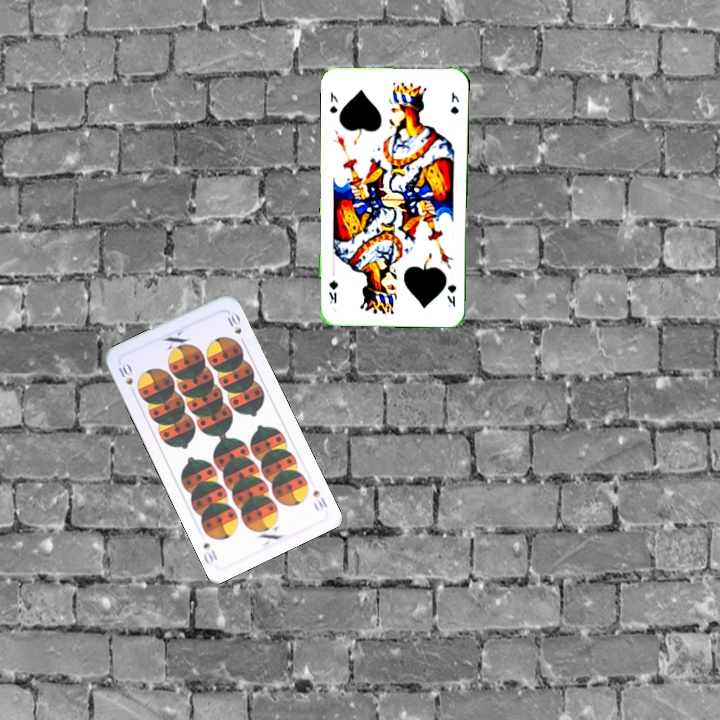GK: (443, 280, 459, 309), (325, 88, 340, 116)
S10: (114, 359, 136, 388), (309, 486, 330, 514)
